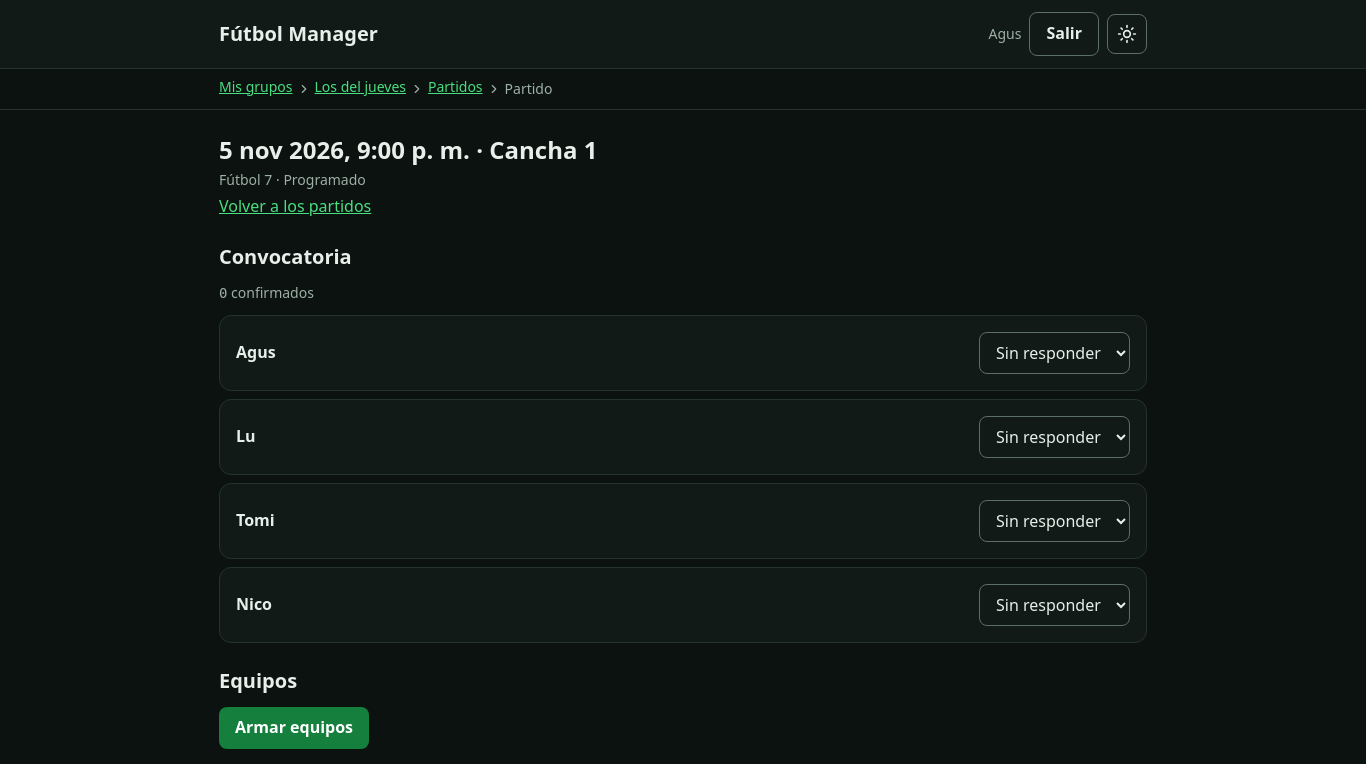
Test case: LineupBuilder: Otra opción › con una sola opción el botón Otra opción queda deshabilitado
Click the button "Armar equipos" at (294, 728), box [219,707,369,749]
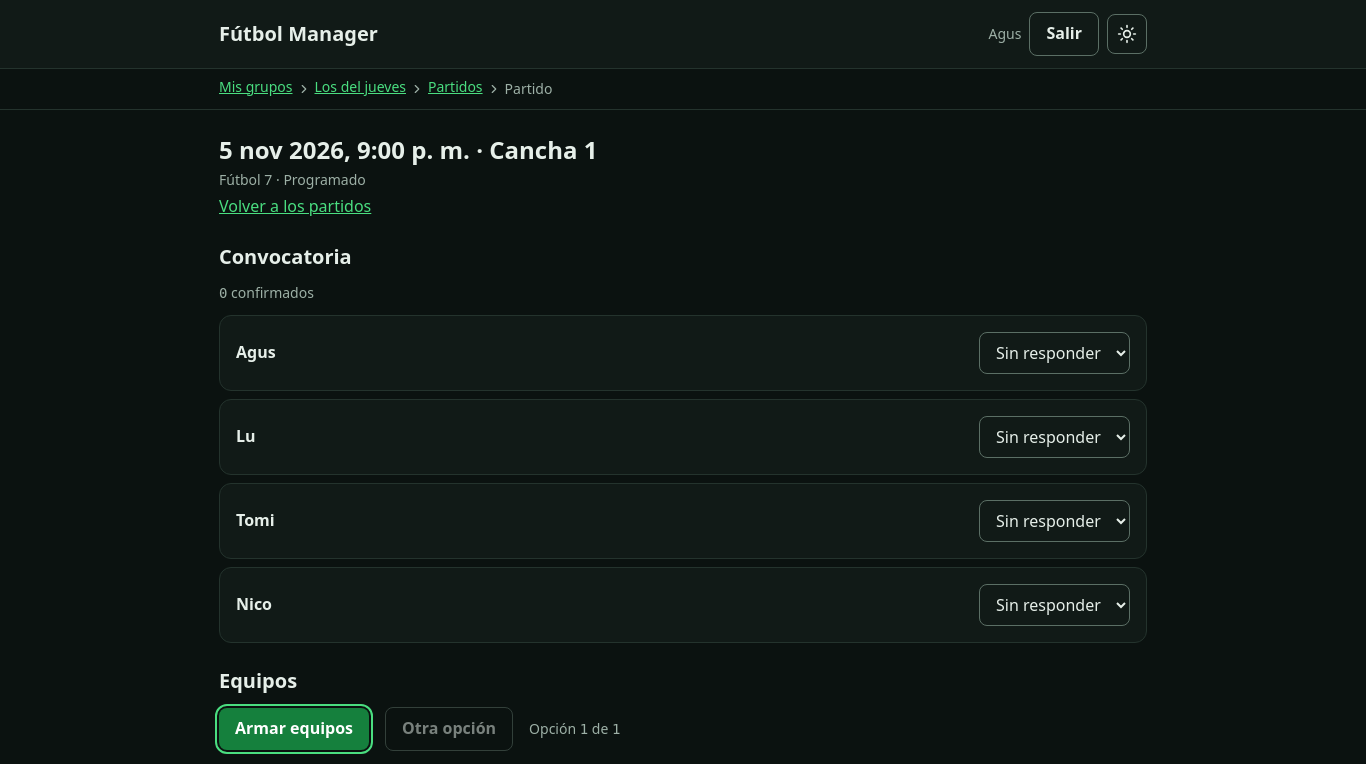
Expected: the button "Otra opción" is disabled, [385,707,513,751]
Expected: the text "Opción 1 de 1" is shown, [529,719,620,739]
